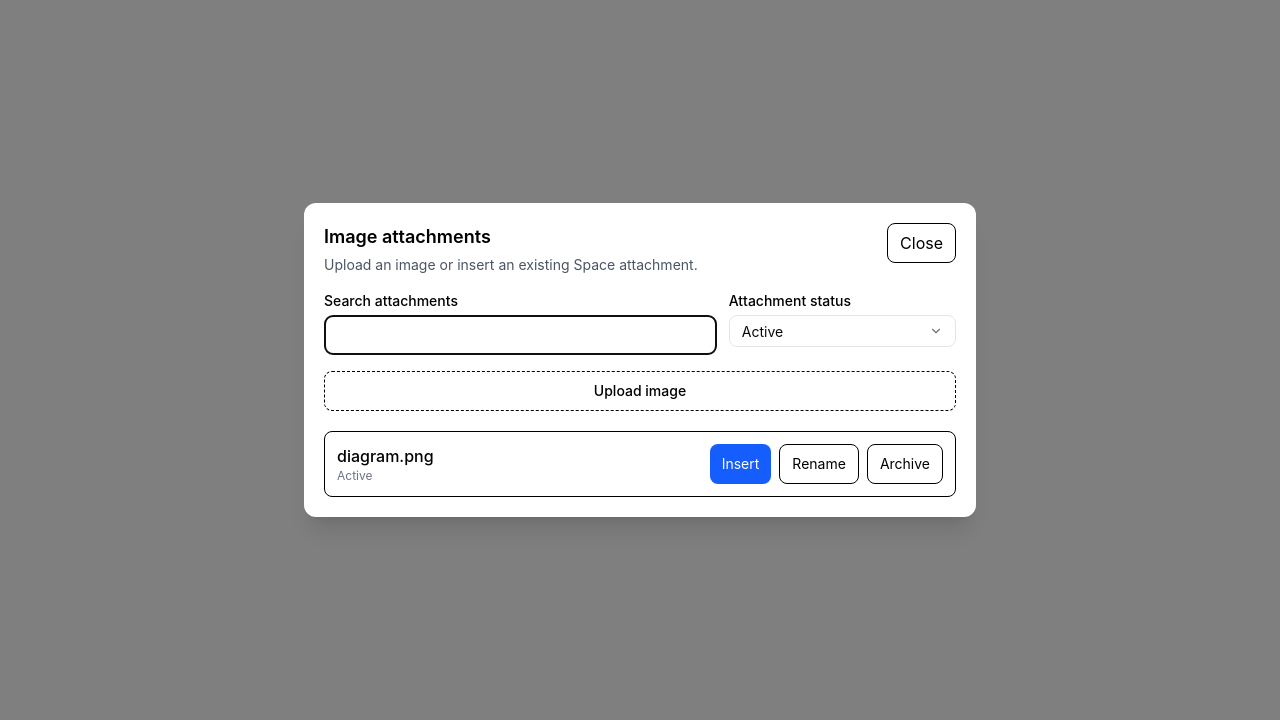
AttachmentPickerDialog › uses current timestamps for archive and surfaces mutation failures without insertion or optimistic state
The width and height of the screenshot is (1280, 720).
Click the button with aria-label "Archive diagram.png" at (905, 464), box [867,444,943,484]
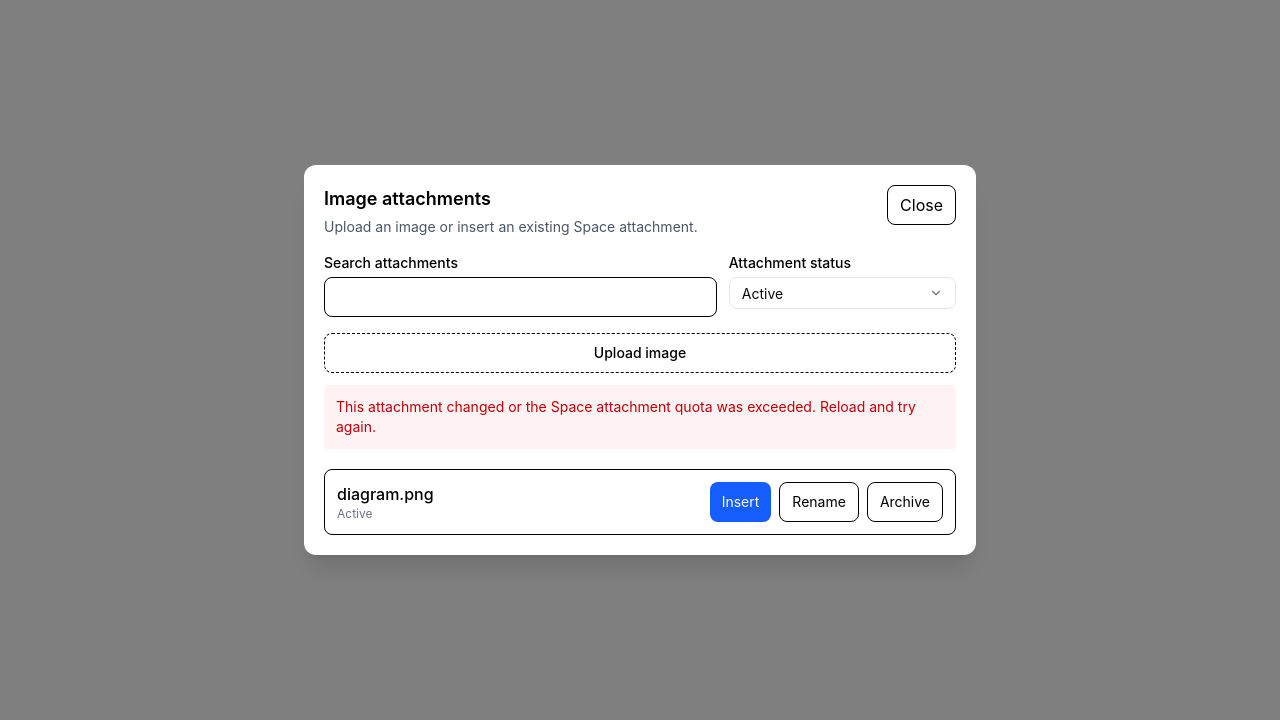
Expected: the button with aria-label "Insert diagram.png" is shown, [710,482,771,522]
Expected: the message shows "This attachment changed or the Space attachment quota was exceeded.", [336,398,916,435]
